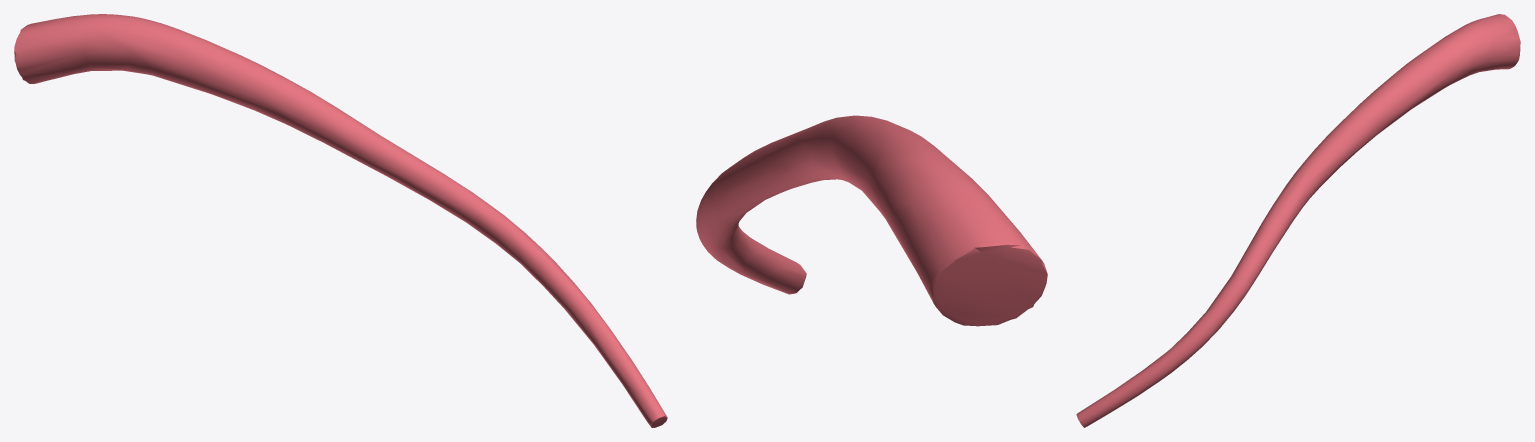
The model's file is fma68133_fj5968.glb.
The picture shows the model from 3 angles, left to right: view 1: azimuth 30°, elevation 25°; view 2: azimuth 150°, elevation 25°; view 3: azimuth 270°, elevation 25°; orthographic projection. The views are drawn at different scales.
Visible parts, largest first — view 1: FMA68133_FJ5968; view 2: FMA68133_FJ5968; view 3: FMA68133_FJ5968.
Boxes of the visible parts, x1=… form: FMA68133_FJ5968: x1=14, y1=14, x2=667, y2=427; FMA68133_FJ5968: x1=696, y1=115, x2=1047, y2=326; FMA68133_FJ5968: x1=1076, y1=14, x2=1520, y2=427.
Size of the model in its own units: 0.059 by 0.0445 by 0.0669.
